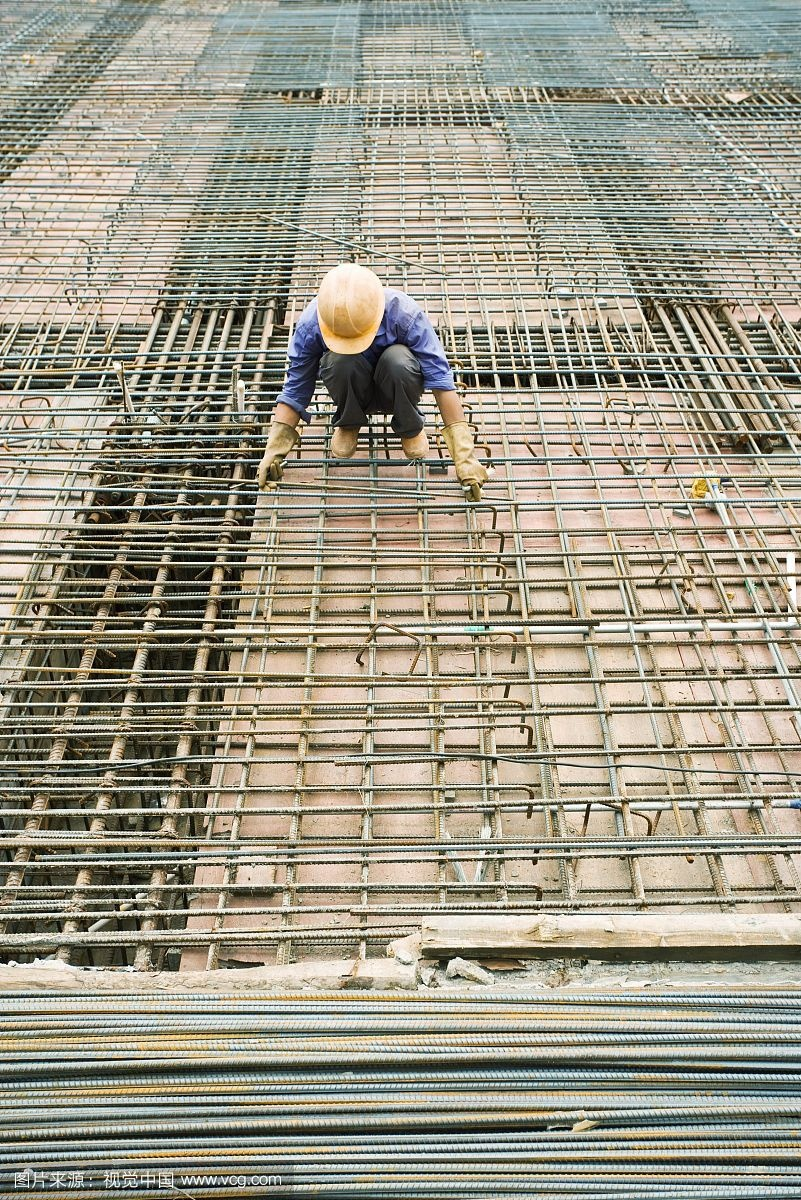yellow: (307, 254, 393, 363)
